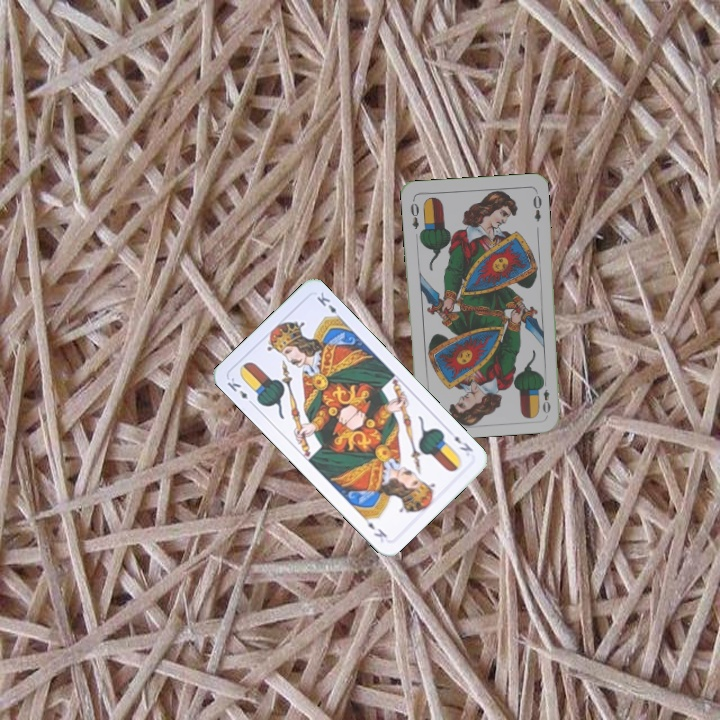EK: (223, 373, 257, 408), (450, 432, 476, 454)
EO: (537, 376, 553, 416), (406, 196, 422, 232)
